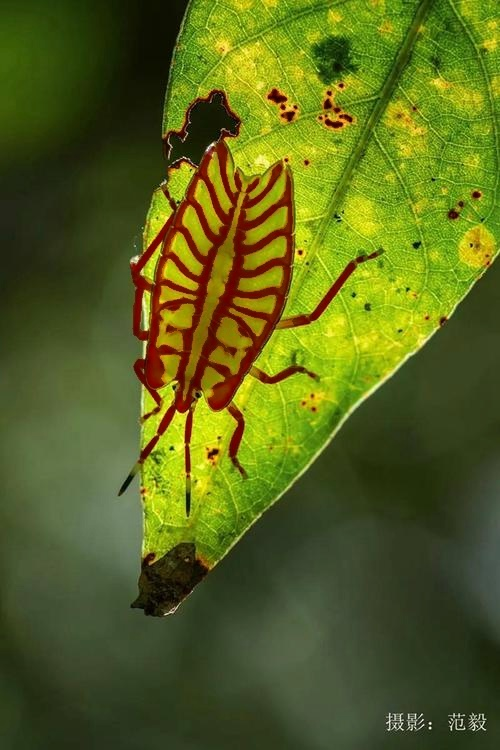Stink_Bug: (114, 145, 308, 446)
